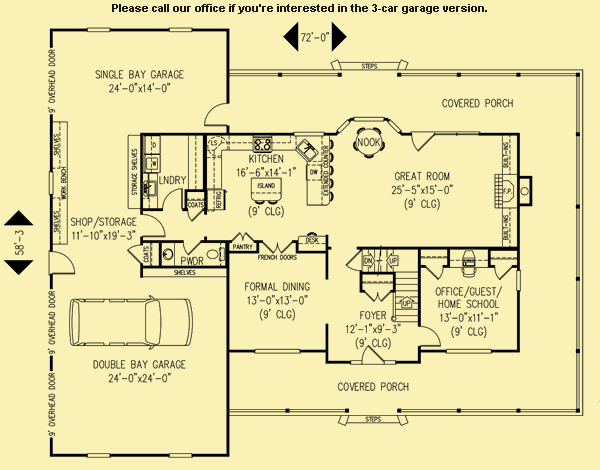kitchen has a kitcheb counter with cooking range and sink: (205, 131, 337, 235)
laundry room has a washer and dryer: (139, 134, 209, 214)
open area has staircase: (325, 245, 419, 365)
small bathroom has a small and large sink: (158, 239, 229, 268)
there is a garage with one car parking: (50, 269, 233, 459)
